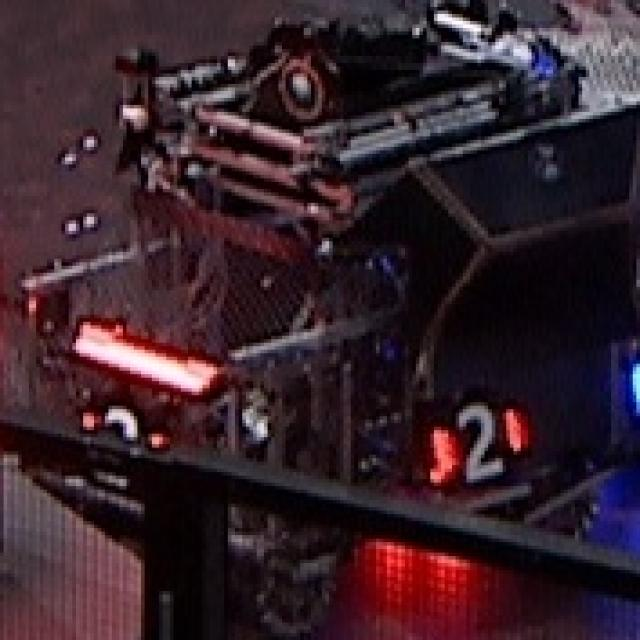R2: (63, 395, 179, 493), (412, 400, 539, 481)
